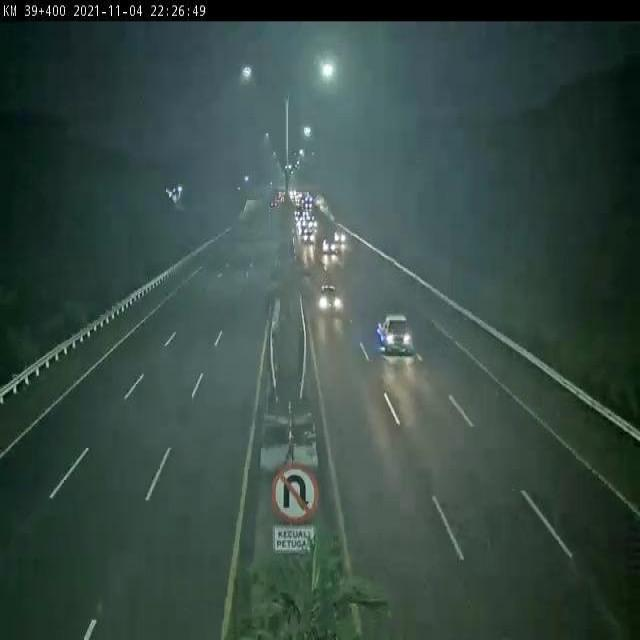car: (314, 280, 351, 316)
truck: (371, 305, 422, 364)
